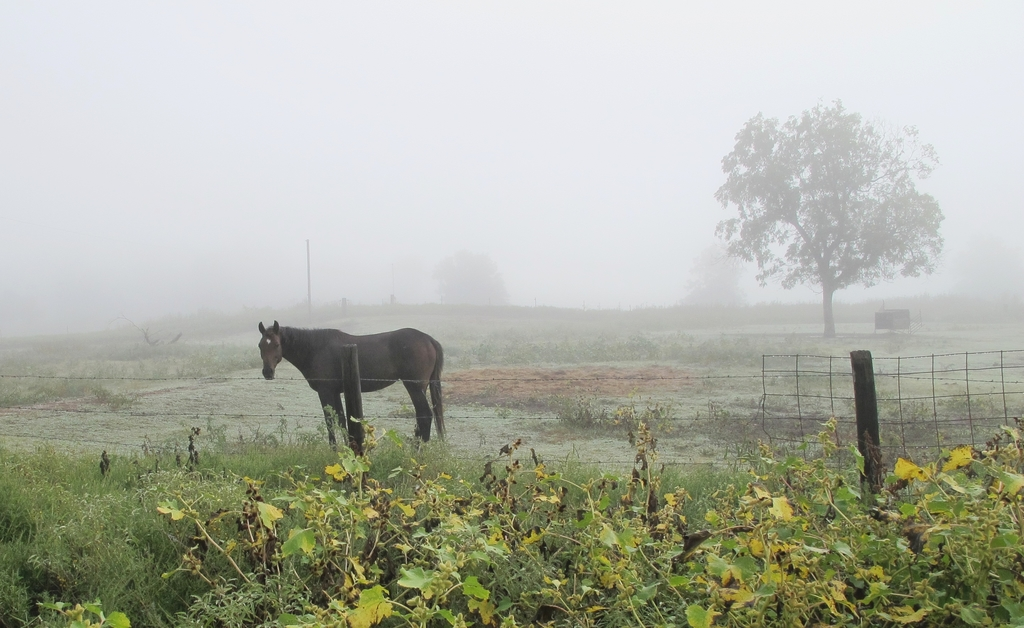horse: (257, 317, 447, 453)
